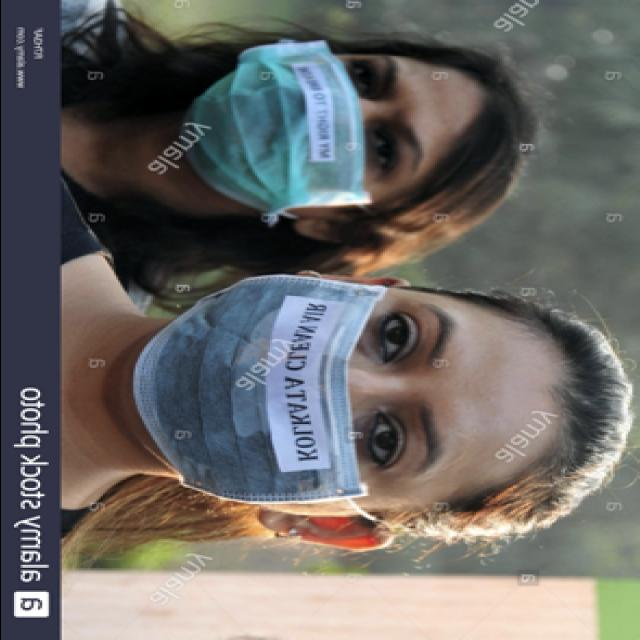mask: (130, 275, 468, 517), (182, 43, 434, 216)
